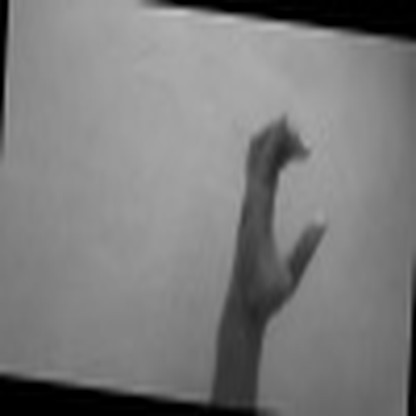c: (233, 112, 330, 307)
